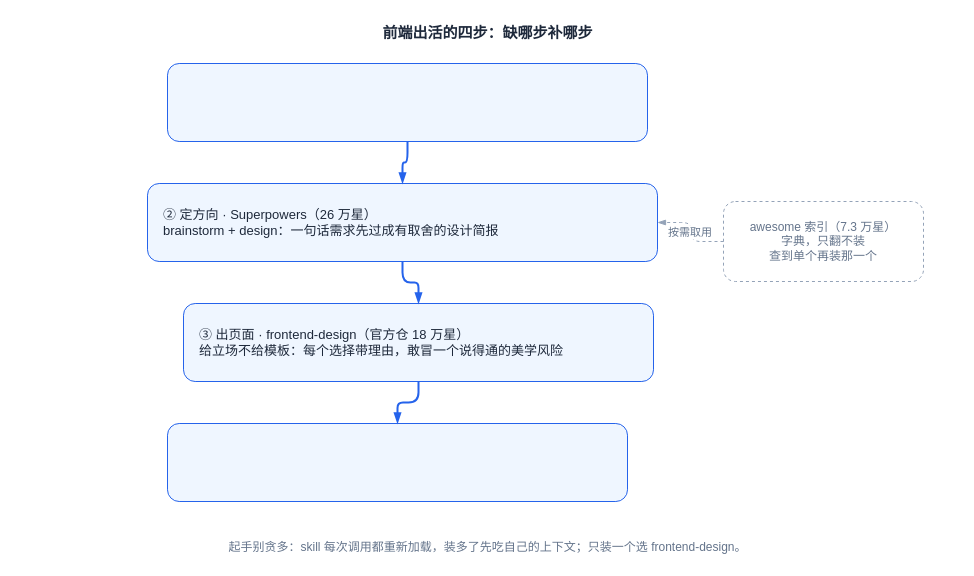
Image size: 974x576. Some labels were removed from this diagram. The shapes that lost their labels are listed below. From the top down, each one's centre as x and y in pixels, then its label:
At (407,102): "① 起手 · karpathy-skills（19.8 万星） 一个 CLAUDE.md 打底，静默删除、自报完成这些坑先堵住".
At (397,462): "④ 改存量 · graphify（10 万星） 建图谱再动手：这个组件谁在用、改这行会碰到谁，先查再改".
